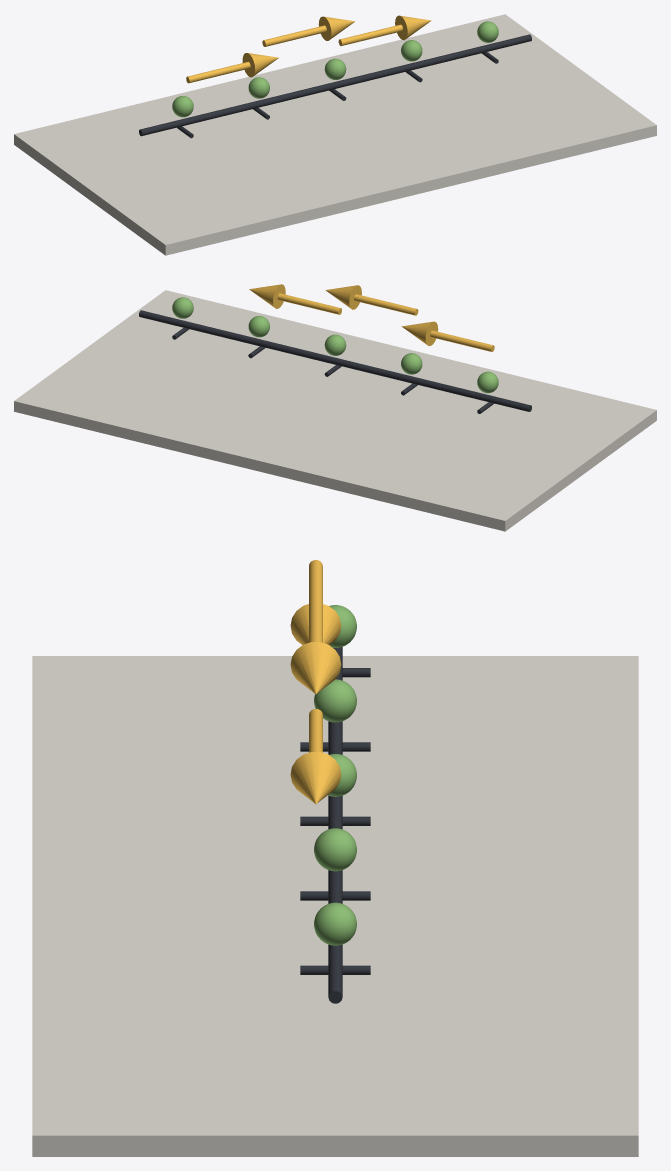
The model's file is math-number-multiples.glb.
3 renders of one model, top to bottom at view 1: azimuth 30°, elevation 25°; view 2: azimuth 150°, elevation 25°; view 3: azimuth 270°, elevation 25°, orthographic. The views are drawn at different scales.
Parts seen in each view (by area): view 1: number-sense-base, skip-count-number-line, skip-jump-3-to-6-head, skip-jump-6-to-9-shaft, skip-jump-3-to-6-shaft, skip-jump-6-to-9-head, skip-jump-9-to-12-shaft, skip-jump-9-to-12-head, multiple-6-landing-dot, multiple-15-landing-dot, multiple-12-landing-dot, multiple-3-landing-dot (+1 smaller); view 2: number-sense-base, skip-count-number-line, skip-jump-3-to-6-head, skip-jump-9-to-12-shaft, skip-jump-9-to-12-head, skip-jump-6-to-9-shaft, skip-jump-6-to-9-head, skip-jump-3-to-6-shaft, multiple-15-landing-dot, multiple-6-landing-dot, multiple-9-landing-dot, multiple-3-landing-dot (+1 smaller); view 3: number-sense-base, skip-count-number-line, skip-jump-6-to-9-head, skip-jump-9-to-12-head, multiple-12-landing-dot, multiple-15-landing-dot, multiple-6-landing-dot, skip-jump-3-to-6-head.
Part boxes in pixels (bbox=[...]): number-sense-base: bbox=[14, 14, 656, 255]; skip-count-number-line: bbox=[139, 34, 531, 136]; skip-jump-3-to-6-head: bbox=[242, 53, 278, 77]; skip-jump-6-to-9-shaft: bbox=[262, 25, 326, 46]; skip-jump-3-to-6-shaft: bbox=[186, 61, 250, 83]; skip-jump-6-to-9-head: bbox=[318, 16, 354, 40]; skip-jump-9-to-12-shaft: bbox=[338, 24, 402, 45]; skip-jump-9-to-12-head: bbox=[395, 15, 431, 40]; multiple-6-landing-dot: bbox=[248, 77, 269, 98]; multiple-15-landing-dot: bbox=[477, 21, 498, 42]; multiple-12-landing-dot: bbox=[401, 40, 422, 61]; multiple-3-landing-dot: bbox=[172, 96, 193, 117]; number-sense-base: bbox=[14, 290, 656, 531]; skip-count-number-line: bbox=[139, 310, 531, 411]; skip-jump-3-to-6-head: bbox=[401, 321, 438, 345]; skip-jump-9-to-12-shaft: bbox=[277, 293, 341, 314]; skip-jump-9-to-12-head: bbox=[249, 284, 285, 308]; skip-jump-6-to-9-shaft: bbox=[354, 294, 418, 315]; skip-jump-6-to-9-head: bbox=[325, 285, 361, 309]; skip-jump-3-to-6-shaft: bbox=[430, 330, 494, 351]; multiple-15-landing-dot: bbox=[172, 297, 193, 318]; multiple-6-landing-dot: bbox=[401, 353, 422, 374]; multiple-9-landing-dot: bbox=[324, 334, 346, 355]; multiple-3-landing-dot: bbox=[477, 371, 498, 393]; number-sense-base: bbox=[32, 656, 638, 1156]; skip-count-number-line: bbox=[328, 647, 342, 1003]; skip-jump-6-to-9-head: bbox=[290, 642, 341, 693]; skip-jump-9-to-12-head: bbox=[290, 752, 341, 803]; multiple-12-landing-dot: bbox=[314, 828, 356, 871]; multiple-15-landing-dot: bbox=[314, 902, 356, 945]; multiple-6-landing-dot: bbox=[314, 679, 356, 722]; skip-jump-3-to-6-head: bbox=[290, 604, 341, 644].
Size of what is drawn, in the model's own units: 2.9 by 0.734 by 1.55.
